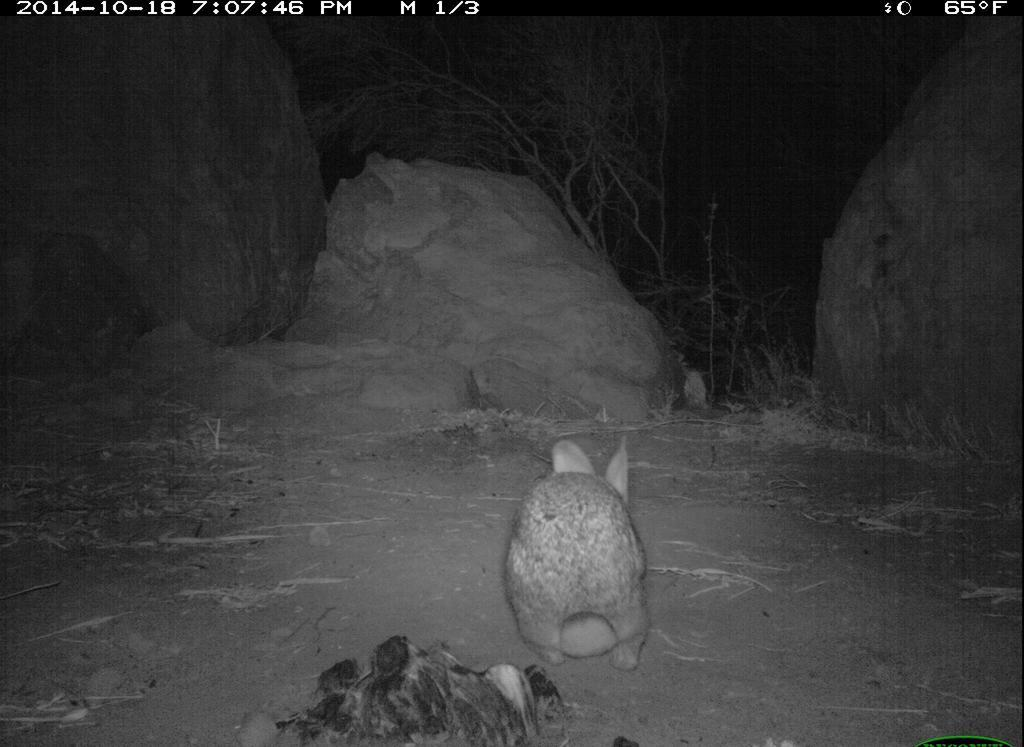rabbit: (493, 427, 679, 684)
